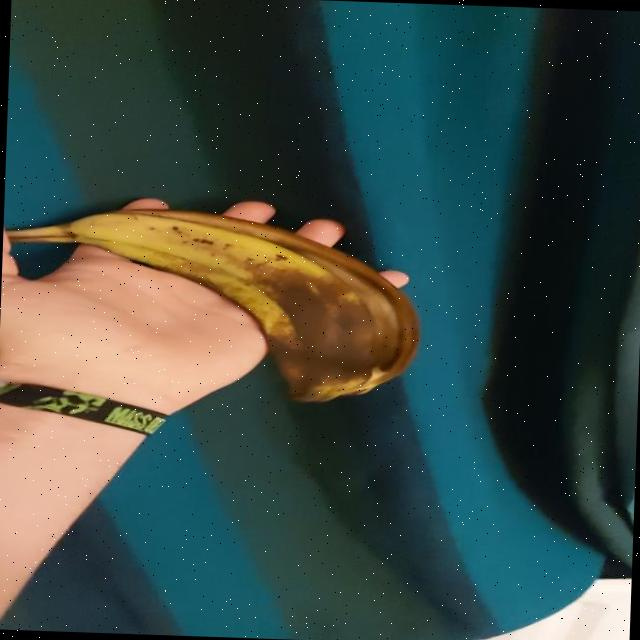banana-peel: (0, 201, 423, 408)
